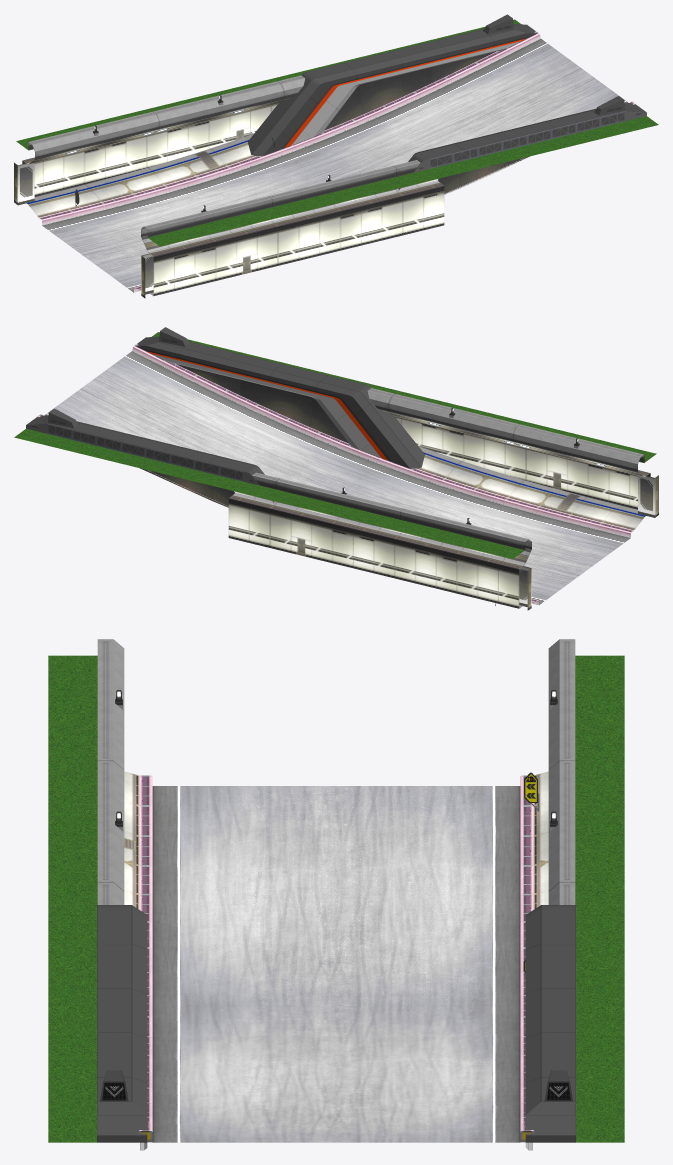
The picture shows the model from 3 angles, top to bottom: view 1: azimuth 30°, elevation 25°; view 2: azimuth 150°, elevation 25°; view 3: azimuth 270°, elevation 25°; orthographic projection. The views are drawn at different scales.
Visible parts, largest first — view 1: wall_straight_trench1, straight_road, trench_gat8, trench_grass; view 2: wall_straight_trench1, straight_road, trench_gat8, trench_grass; view 3: straight_road, trench_grass, wall_straight_trench1, trench_gat8.
Boxes of the visible parts, x1=… form: wall_straight_trench1: x1=14, y1=31, x2=635, y2=298; straight_road: x1=42, y1=39, x2=628, y2=292; trench_gat8: x1=248, y1=14, x2=646, y2=193; trench_grass: x1=16, y1=19, x2=658, y2=246; wall_straight_trench1: x1=38, y1=344, x2=658, y2=610; straight_road: x1=44, y1=351, x2=630, y2=604; trench_gat8: x1=26, y1=327, x2=424, y2=507; trench_grass: x1=14, y1=332, x2=656, y2=559; straight_road: x1=152, y1=786, x2=520, y2=1142; trench_grass: x1=48, y1=655, x2=624, y2=1142; wall_straight_trench1: x1=97, y1=639, x2=575, y2=1142; trench_gat8: x1=97, y1=905, x2=575, y2=1150.
Bounding box in the file's own units: 13016 × 2267 × 6400.
